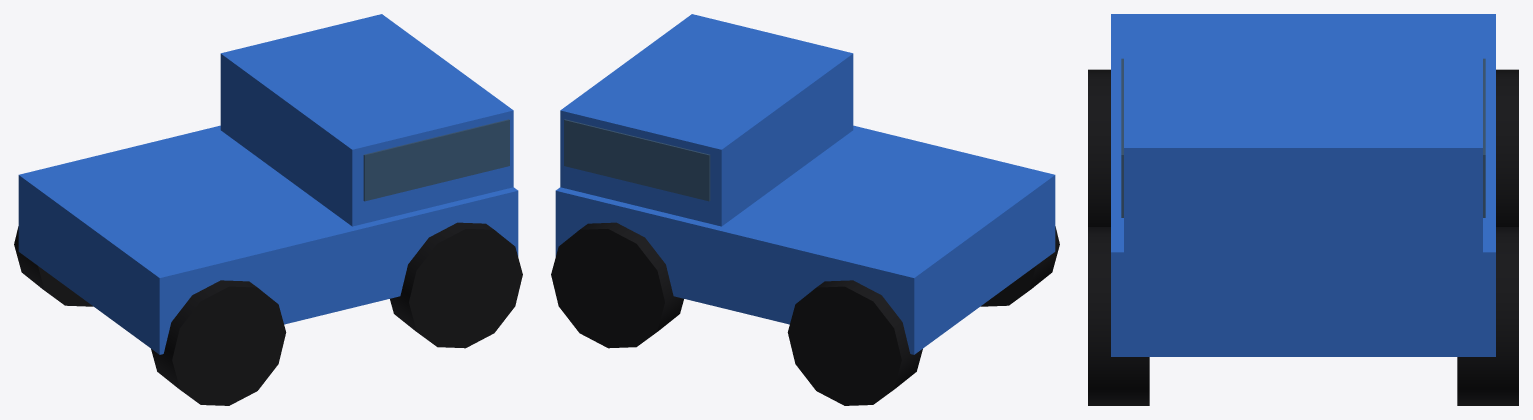
The model's file is car.glb.
3 views of the same model, side by side, from view 1: azimuth 30°, elevation 25°; view 2: azimuth 150°, elevation 25°; view 3: azimuth 270°, elevation 25° (orthographic). The views are drawn at different scales.
Parts seen in each view (by area): view 1: car; view 2: car; view 3: car.
Boxes of the visible parts, box(x1,y1,x2,y2) form: car: box(14, 14, 522, 405); car: box(551, 14, 1059, 405); car: box(1088, 14, 1518, 405).
Bounding box in the file's own units: 2.2 × 1.25 × 1.68.
